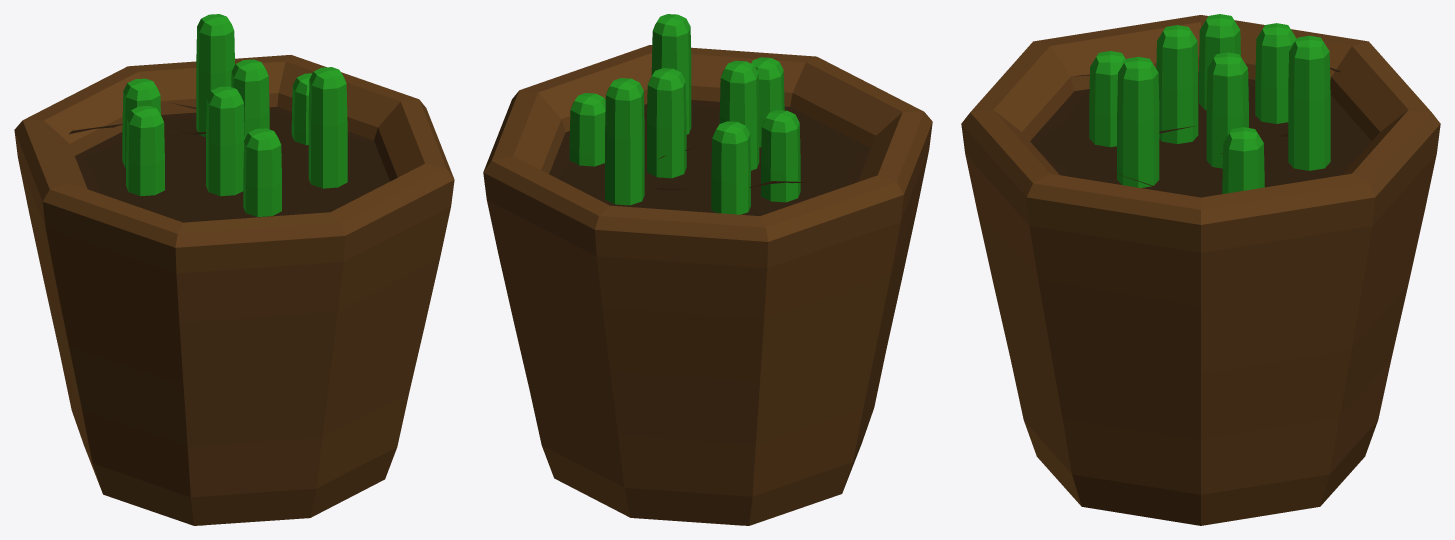
The model's file is stick_pot.fbx.
3 renders of one model, left to right at view 1: azimuth 30°, elevation 25°; view 2: azimuth 150°, elevation 25°; view 3: azimuth 270°, elevation 25°, orthographic. The views are drawn at different scales.
Visible parts, largest first — view 1: Pot, Dirt, small plant.006, small plant.007, small plant.005, small plant.003, small plant.002, small plant.001, small plant.004, small plant.008; view 2: Pot, Dirt, small plant.002, small plant.001, small plant.004, small plant.005, small plant.007, small plant.006, small plant.008, small plant.003; view 3: Pot, Dirt, small plant.002, small plant.006, small plant.007, small plant.001, small plant.004, small plant.003, small plant.008, small plant.005.
Boxes of the visible parts, x1=… form: Pot: x1=14, y1=55, x2=454, y2=525; Dirt: x1=69, y1=102, x2=389, y2=222; small plant.006: x1=308, y1=67, x2=347, y2=188; small plant.007: x1=206, y1=86, x2=244, y2=196; small plant.005: x1=126, y1=105, x2=164, y2=196; small plant.003: x1=243, y1=128, x2=281, y2=216; small plant.002: x1=196, y1=14, x2=234, y2=136; small plant.001: x1=231, y1=59, x2=269, y2=138; small plant.004: x1=122, y1=78, x2=160, y2=167; small plant.008: x1=291, y1=73, x2=312, y2=145; Pot: x1=483, y1=45, x2=932, y2=525; Dirt: x1=549, y1=100, x2=870, y2=215; small plant.002: x1=605, y1=78, x2=644, y2=205; small plant.001: x1=647, y1=68, x2=686, y2=178; small plant.004: x1=711, y1=121, x2=750, y2=214; small plant.005: x1=761, y1=110, x2=800, y2=202; small plant.007: x1=719, y1=60, x2=759, y2=170; small plant.006: x1=651, y1=14, x2=691, y2=134; small plant.008: x1=569, y1=93, x2=605, y2=166; small plant.003: x1=751, y1=57, x2=784, y2=147; Pot: x1=961, y1=15, x2=1440, y2=525; Dirt: x1=1030, y1=67, x2=1371, y2=197; small plant.002: x1=1288, y1=35, x2=1330, y2=170; small plant.006: x1=1117, y1=56, x2=1159, y2=187; small plant.007: x1=1156, y1=25, x2=1198, y2=143; small plant.001: x1=1206, y1=52, x2=1248, y2=168; small plant.004: x1=1255, y1=23, x2=1296, y2=123; small plant.003: x1=1089, y1=51, x2=1125, y2=147; small plant.008: x1=1222, y1=127, x2=1264, y2=193; small plant.005: x1=1199, y1=14, x2=1240, y2=109.
Size of the model in its own units: 35.54 by 37.26 by 35.54.
